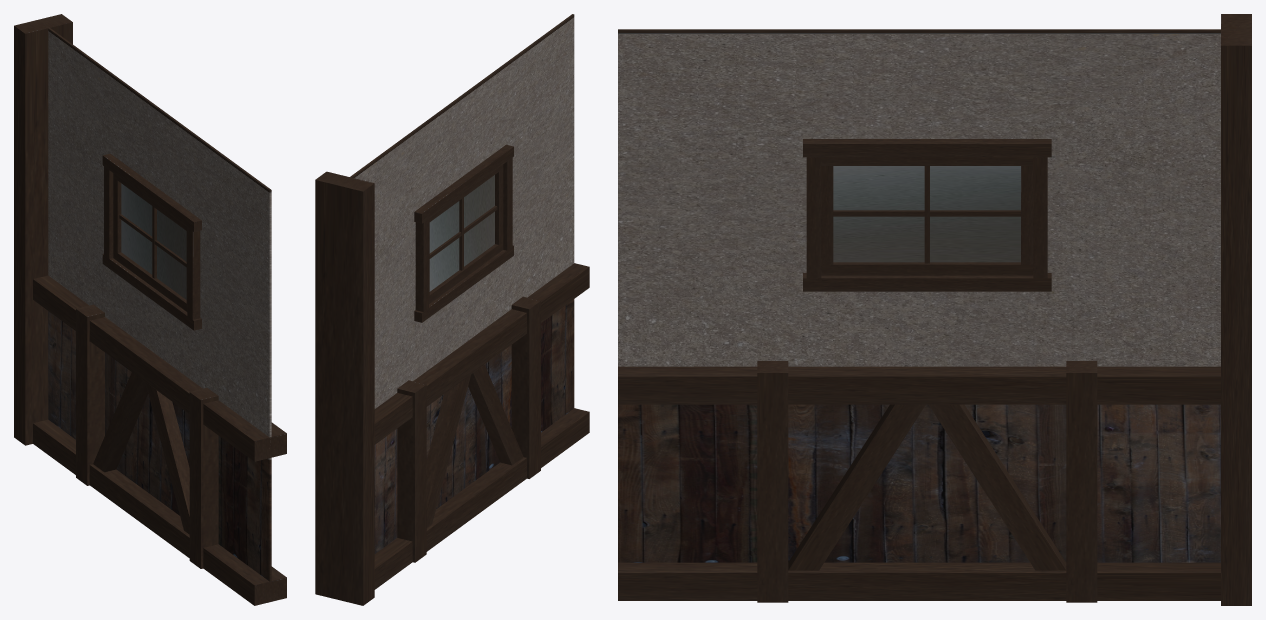
The model's file is OutdoorArchitecture_BasicWall03_Window03_RightEdge_BShortt.fbx.
3 renders of one model, left to right at view 1: azimuth 30°, elevation 25°; view 2: azimuth 150°, elevation 25°; view 3: azimuth 270°, elevation 25°, orthographic. The views are drawn at different scales.
Visible parts, largest first — view 1: OutdoorArchitecture_BasicWall03_Window03_RightEdge_BShortt; view 2: OutdoorArchitecture_BasicWall03_Window03_RightEdge_BShortt; view 3: OutdoorArchitecture_BasicWall03_Window03_RightEdge_BShortt.
Part boxes in pixels (x1,y1,x2,y2): OutdoorArchitecture_BasicWall03_Window03_RightEdge_BShortt: (14, 14, 286, 605); OutdoorArchitecture_BasicWall03_Window03_RightEdge_BShortt: (315, 14, 589, 605); OutdoorArchitecture_BasicWall03_Window03_RightEdge_BShortt: (618, 14, 1251, 605).
Bounding box in the file's own units: 36.37 × 300 × 308.
